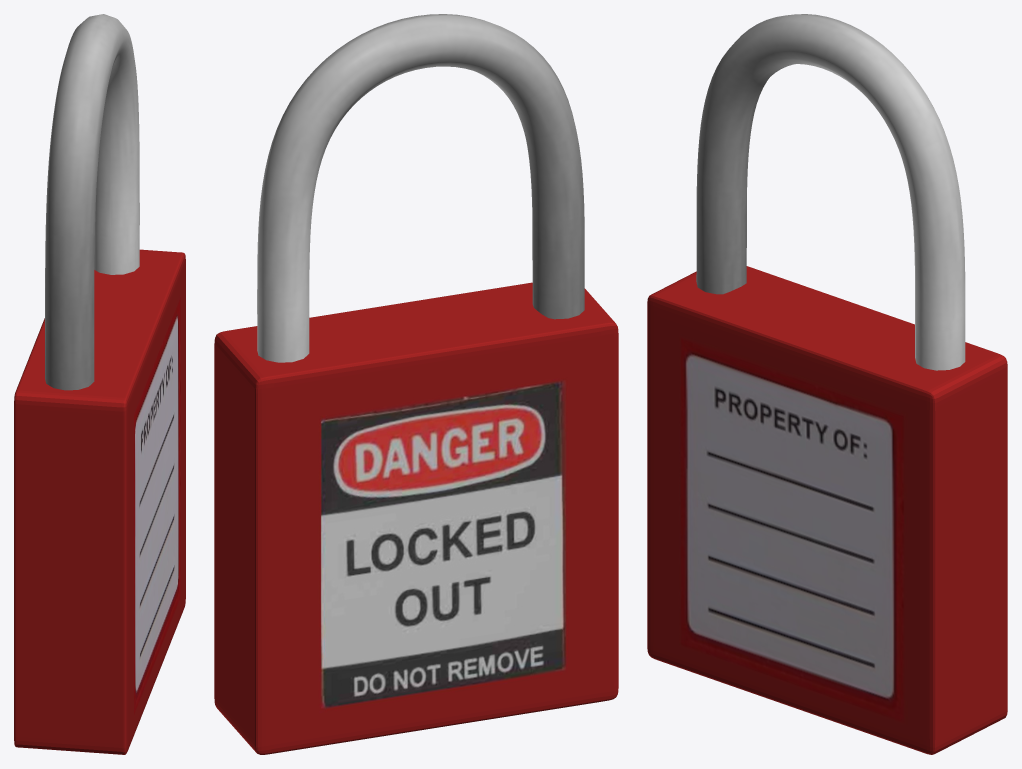
Rendered from Loto_Candado.glb.
3 renders of one model, left to right at view 1: azimuth 30°, elevation 25°; view 2: azimuth 150°, elevation 25°; view 3: azimuth 270°, elevation 25°, orthographic. The views are drawn at different scales.
Visible parts, largest first — view 1: Lock_1, Lock_1_0; view 2: Lock_1, Lock_1_0; view 3: Lock_1, Lock_1_0.
Boxes of the visible parts, <box> form: Lock_1: <box>14,249,185,754</box>; Lock_1_0: <box>45,14,139,390</box>; Lock_1: <box>214,282,618,754</box>; Lock_1_0: <box>257,14,584,362</box>; Lock_1: <box>647,266,1007,754</box>; Lock_1_0: <box>696,14,965,370</box>.
Bounding box in the file's own units: 0.0691 × 0.1556 × 0.0765.
Materials: 2 (2 with a texture image).
